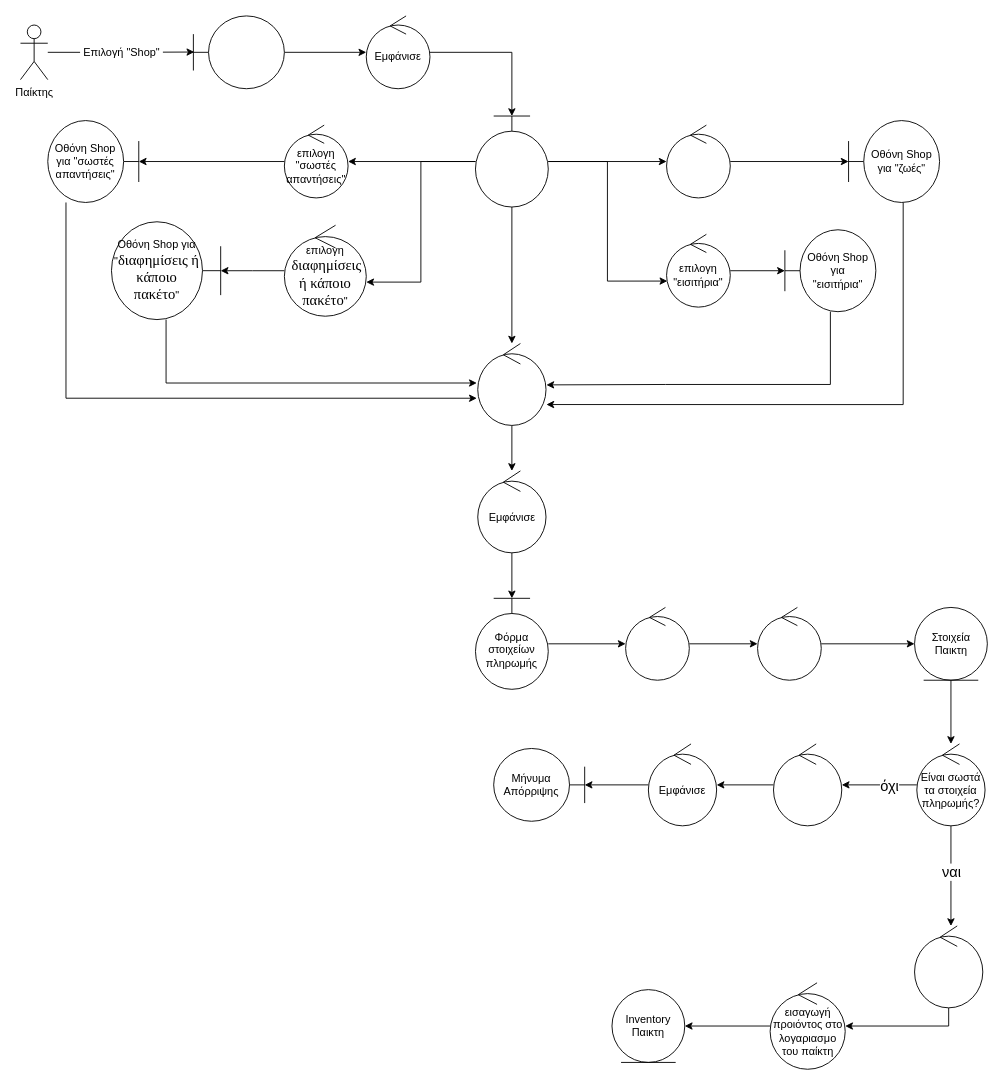
Image size: 1004x1086. Some labels were removed from this diagram. The centre of each missing label's shape, as x and y in pixels:
Έλεγχος στοιχείων πληρωμής: point 789,643
Ακύρωση συναλλαγής: point 807,784
Επιλογή πληρωμή: point 657,643
Επιλογή ποσού προιόντος: point 511,384
επιλογη "ζωές": point 698,161
Κύρια Οθόνη: point 238,52
Οθόνη Shop για "νομίσματα": point 511,161
ολοκλήρωση συναλλαγής: point 948,966
